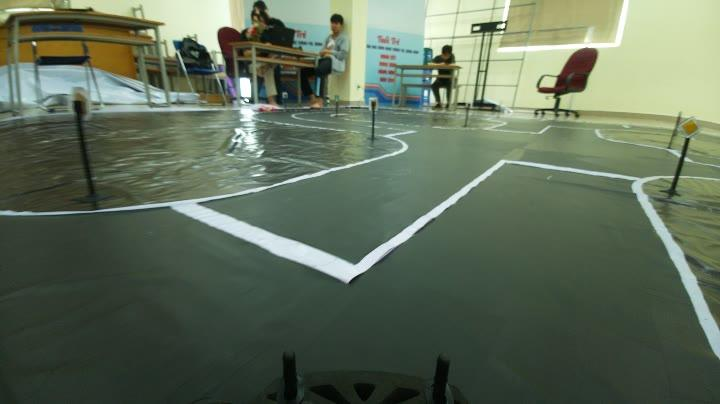priority: (676, 115, 700, 142)
